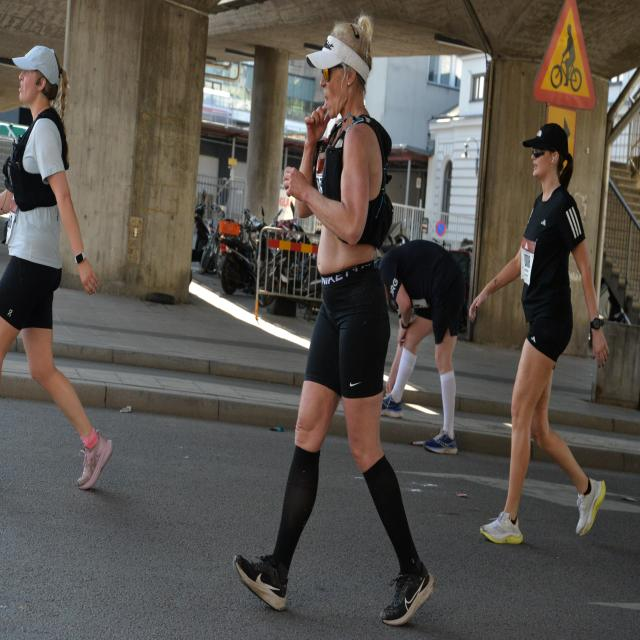runner-detect: (224, 21, 453, 628), (478, 94, 614, 556), (1, 41, 117, 504)
